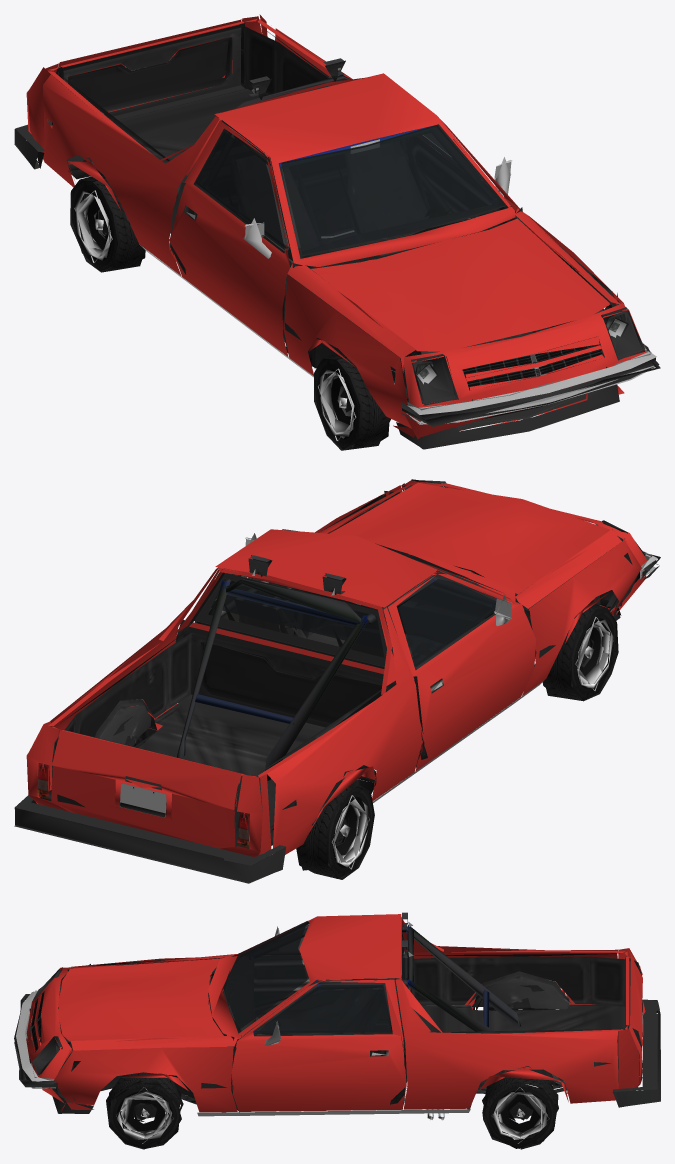
Rendered from doutrive-78-lite.glb.
The picture shows the model from 3 angles, top to bottom: view 1: azimuth 30°, elevation 25°; view 2: azimuth 150°, elevation 25°; view 3: azimuth 270°, elevation 25°; orthographic projection. The views are drawn at different scales.
Visible parts, largest first — view 1: DOUTRIVE78_Blinkers_UCB_Lights_and_Glass_0; view 2: DOUTRIVE78_Blinkers_UCB_Lights_and_Glass_0; view 3: DOUTRIVE78_Blinkers_UCB_Lights_and_Glass_0.
Boxes of the visible parts, x1=… form: DOUTRIVE78_Blinkers_UCB_Lights_and_Glass_0: x1=14, y1=14, x2=660, y2=450; DOUTRIVE78_Blinkers_UCB_Lights_and_Glass_0: x1=14, y1=479, x2=660, y2=883; DOUTRIVE78_Blinkers_UCB_Lights_and_Glass_0: x1=14, y1=912, x2=660, y2=1149.
Size of the model in its own units: 1.66 by 1.33 by 4.5.
6 materials, 5 textured.
